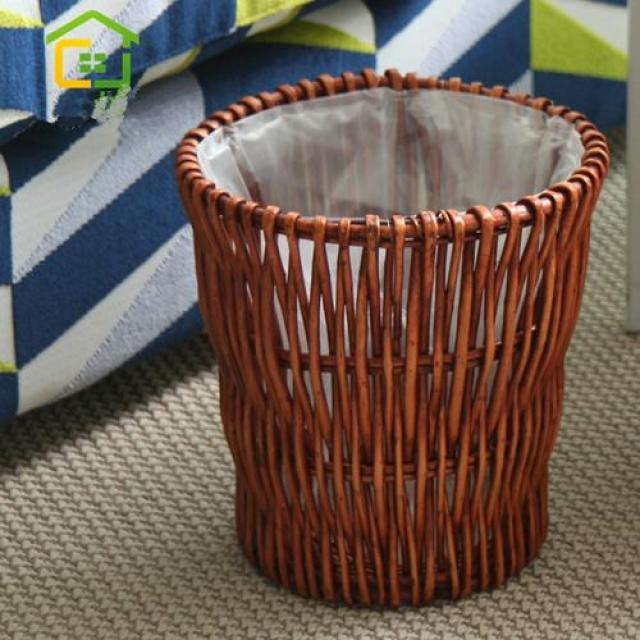Dustbin: (169, 62, 615, 614)
